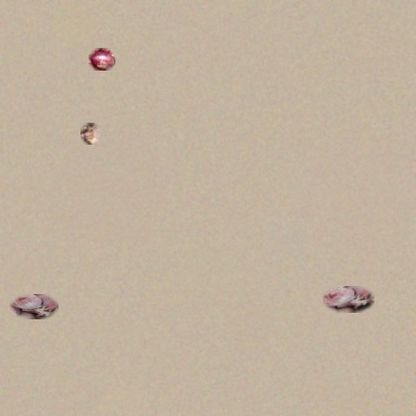healthy: (89, 48, 115, 71)
rotten: (80, 123, 100, 145)
sprouted: (323, 286, 375, 313), (10, 294, 58, 319)
